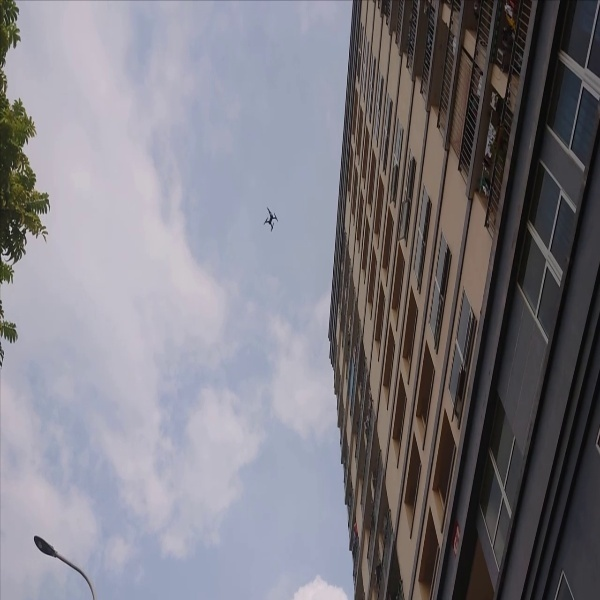drone: (259, 203, 284, 236)
